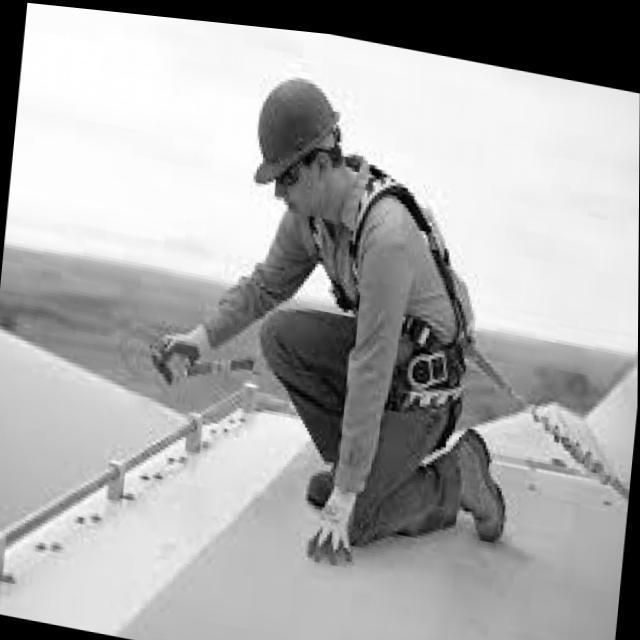safety belt: (292, 198, 507, 424)
